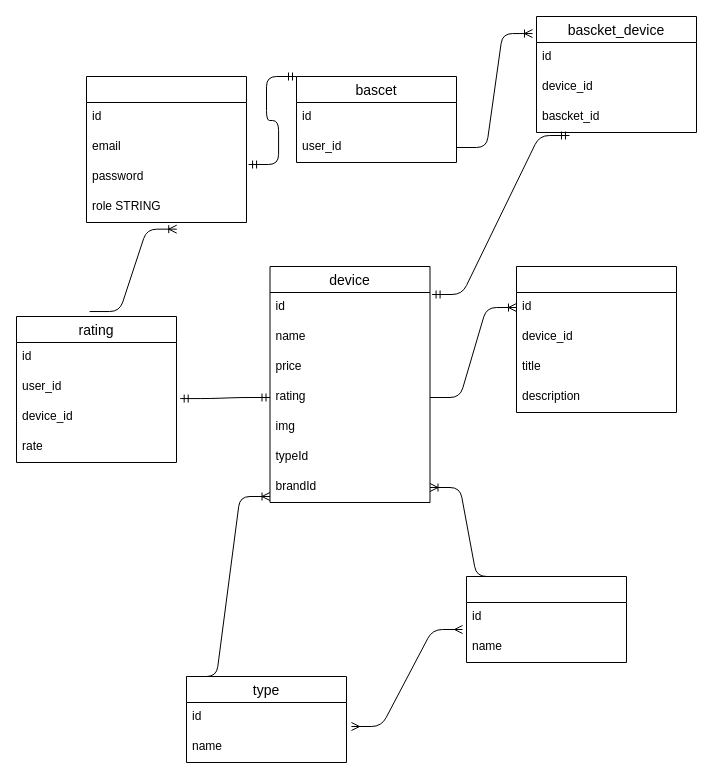
This 713x779 diagram has some shape labels left out. Each missing label, with the box of its shape:
brand: (466, 576, 626, 662)
device_info: (516, 266, 676, 412)
User: (86, 76, 246, 222)
